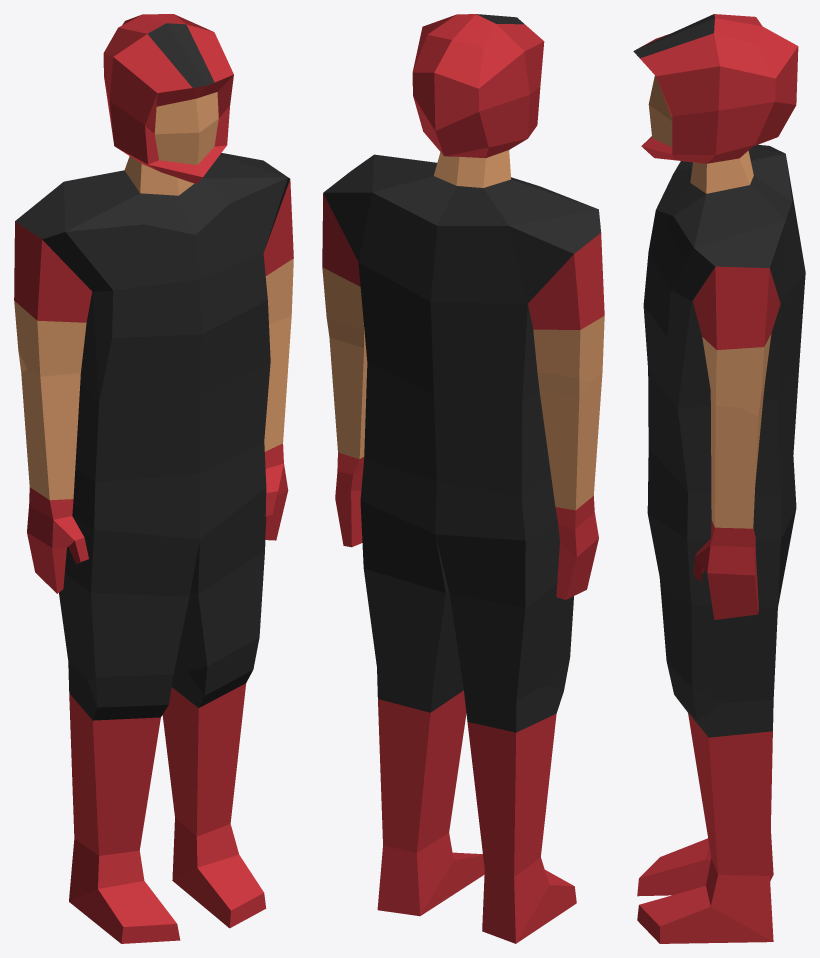
File: man-football.glb
The picture shows the model from 3 angles, left to right: view 1: azimuth 30°, elevation 25°; view 2: azimuth 150°, elevation 25°; view 3: azimuth 270°, elevation 25°; orthographic projection.
Visible parts, largest first — view 1: man-football; view 2: man-football; view 3: man-football.
Boxes of the visible parts, x1,y1,x2,y2 form: man-football: [14, 14, 293, 943]; man-football: [322, 14, 604, 943]; man-football: [633, 14, 805, 943].
Bounding box in the file's own units: 0.5602 × 1.84 × 0.3233.
1 material, 1 textured.
